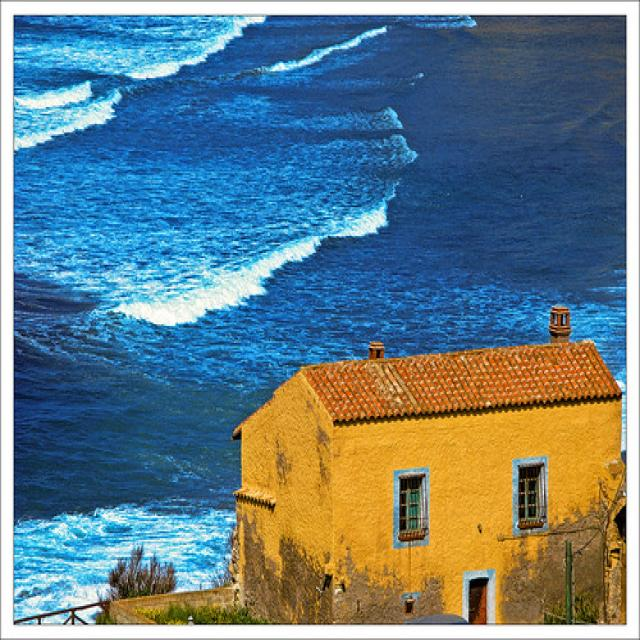building: (230, 305, 628, 622)
